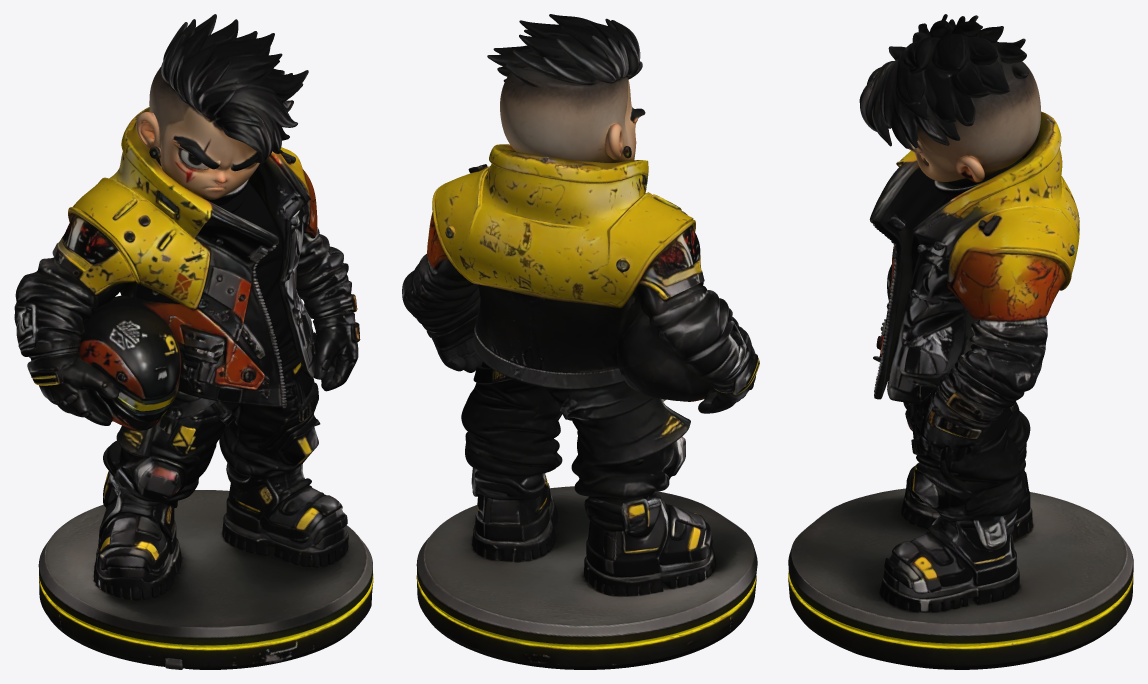
File: champion-grind.glb
The picture shows the model from 3 angles, left to right: view 1: azimuth 30°, elevation 25°; view 2: azimuth 150°, elevation 25°; view 3: azimuth 270°, elevation 25°; orthographic projection. The views are drawn at different scales.
Visible parts, largest first — view 1: model; view 2: model; view 3: model.
Part boxes in pixels (left/top/right/bottom): model: left=14, top=14, right=373, bottom=669; model: left=402, top=14, right=759, bottom=669; model: left=788, top=14, right=1133, bottom=669.
Bounding box in the file's own units: 1.13 × 1.9 × 1.02.
1 material, 1 textured.
